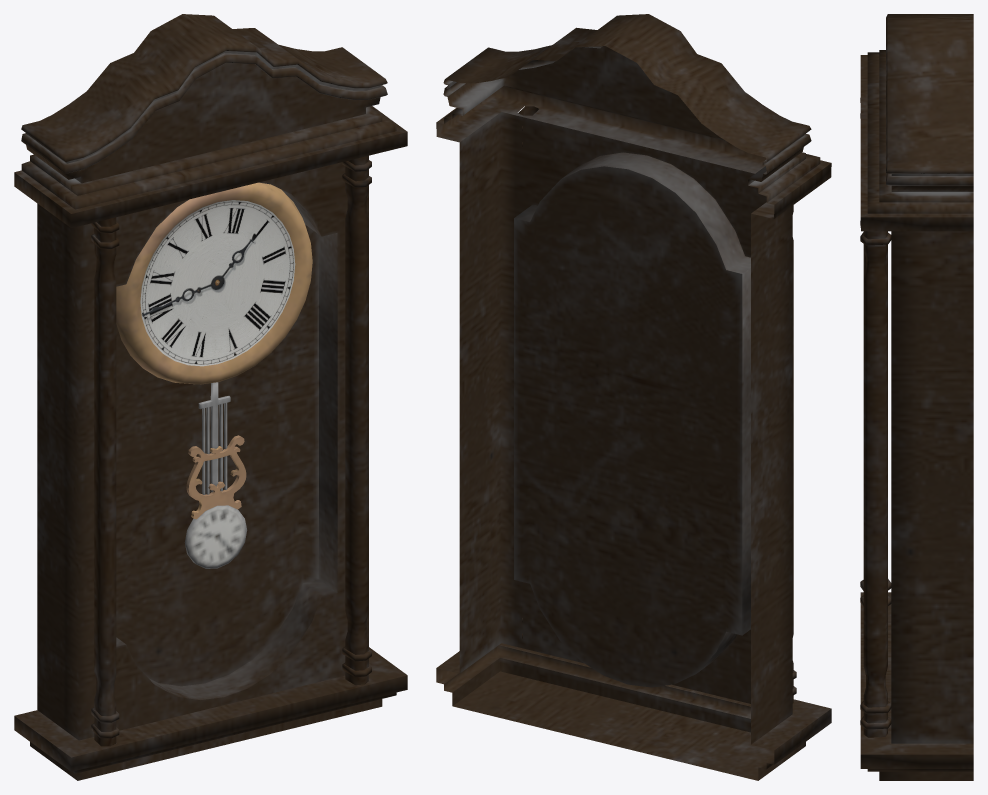
Rendered from clock_wall.fbx.
3 renders of one model, left to right at view 1: azimuth 30°, elevation 25°; view 2: azimuth 150°, elevation 25°; view 3: azimuth 270°, elevation 25°, orthographic.
Parts seen in each view (by area): view 1: clock_wall; view 2: clock_wall; view 3: clock_wall.
Boxes of the visible parts, x1=… form: clock_wall: x1=14, y1=14, x2=407, y2=780; clock_wall: x1=436, y1=14, x2=831, y2=780; clock_wall: x1=860, y1=14, x2=973, y2=780.
Size of the model in its own units: 36.56 by 72.14 by 10.75.
